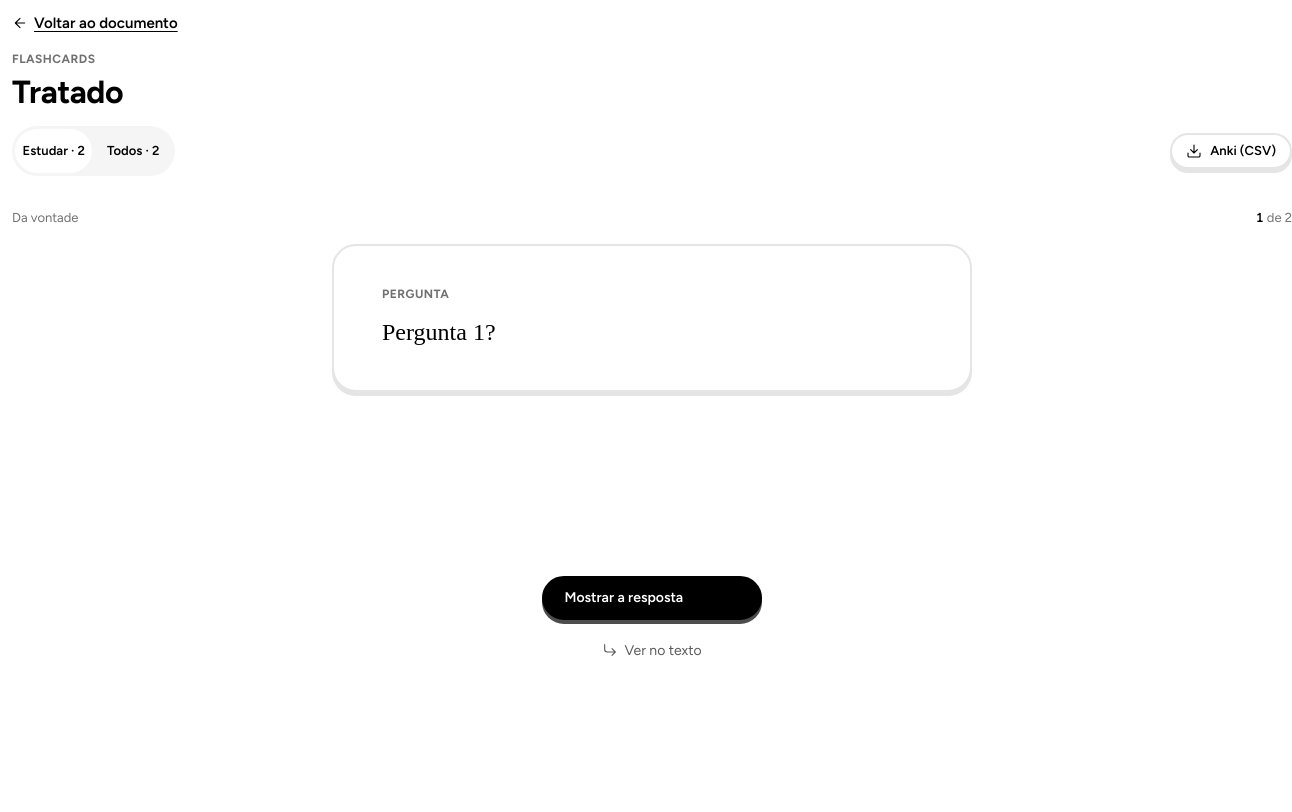
Test: estudar: vira com clique e Espaço, responde com 1–4, Errei volta para o fim, contador e fim da sessão
This screenshot has width=1292, height=812.
Expected: the text "Pergunta 1?" is shown, [382, 319, 496, 345]
Expected: the heading reads "Tratado", [12, 73, 123, 111]
# Antes de virar, as teclas de resposta não fazem nada.
Press 3
Click the button "Pergunta Pergunta 1? Resposta Resposta 1.": (652, 394) [332, 244, 972, 544]
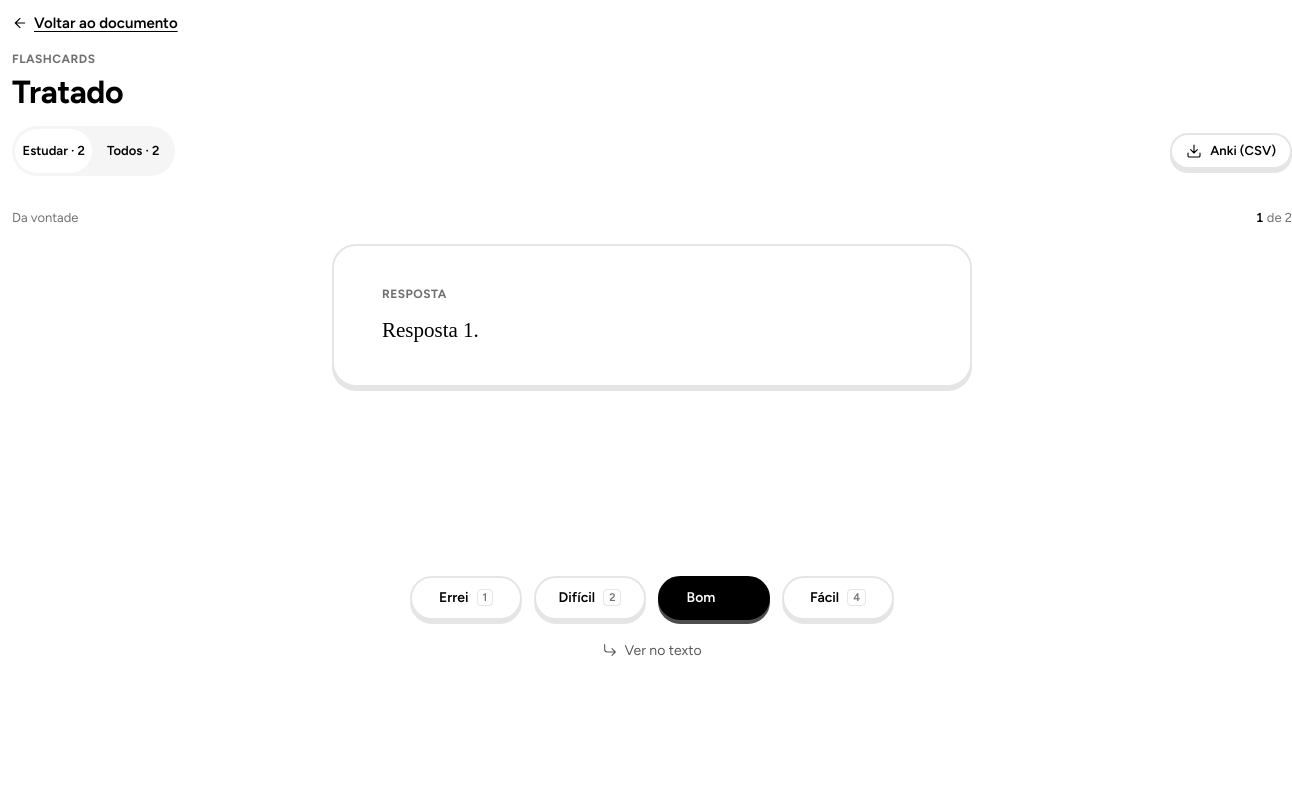
Expected: the element with class "cartao-que-vira" has attribute data-virado, [332, 244, 972, 544]
Expected: the element with class "cartao-que-vira" has attribute data-girou, [332, 244, 972, 544]
Click the button "Errei 1": (466, 598) [410, 576, 522, 620]
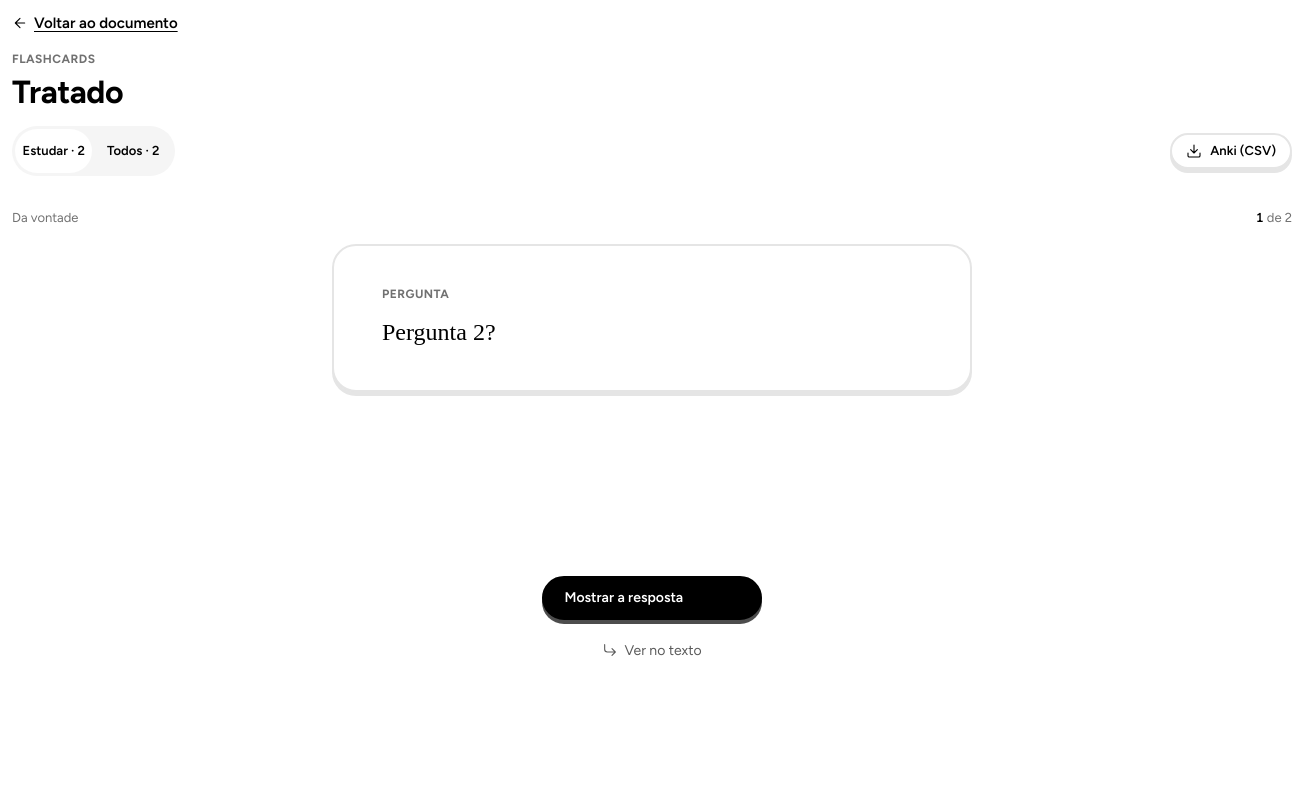
Expected: the text "Pergunta 2?" is shown, [382, 319, 496, 345]
Expected: the element with class "cartao-que-vira" does not have attribute data-girou, [332, 244, 972, 544]
Press Space
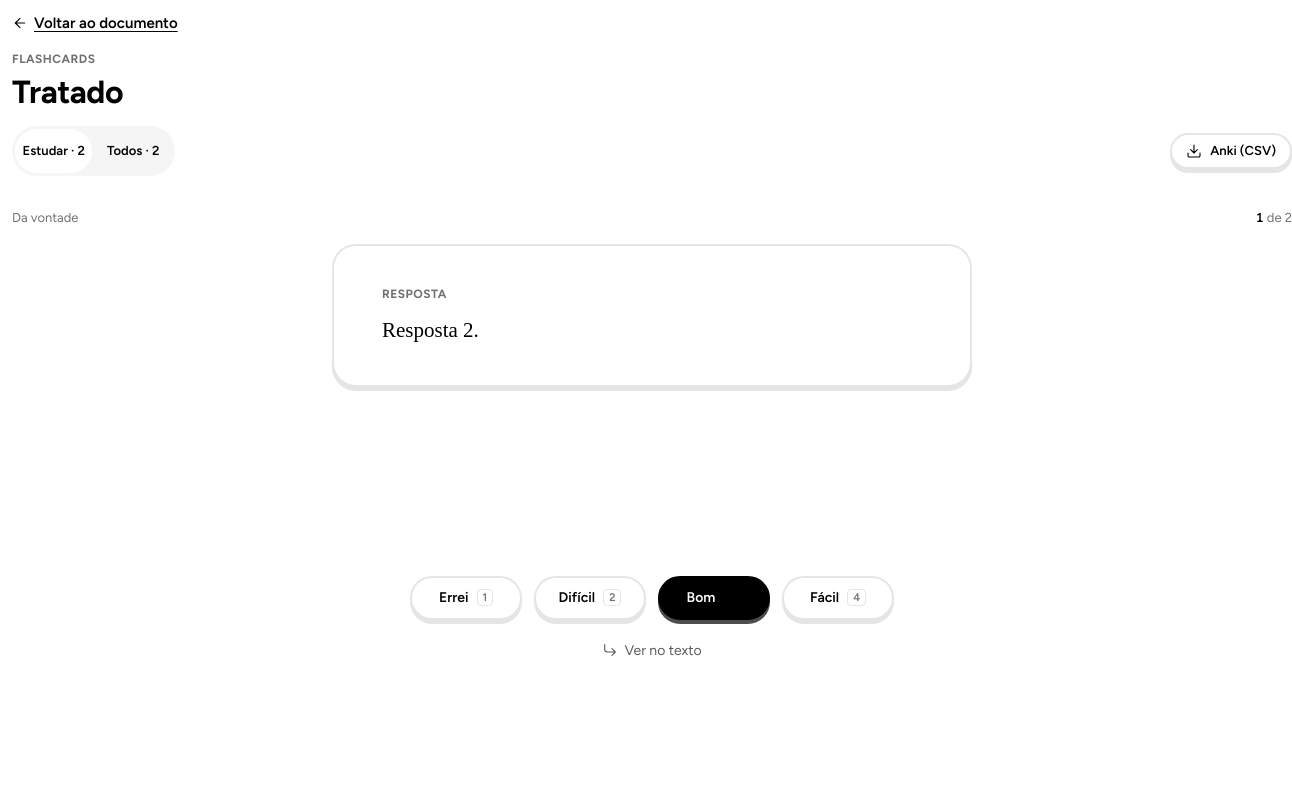
Press 3
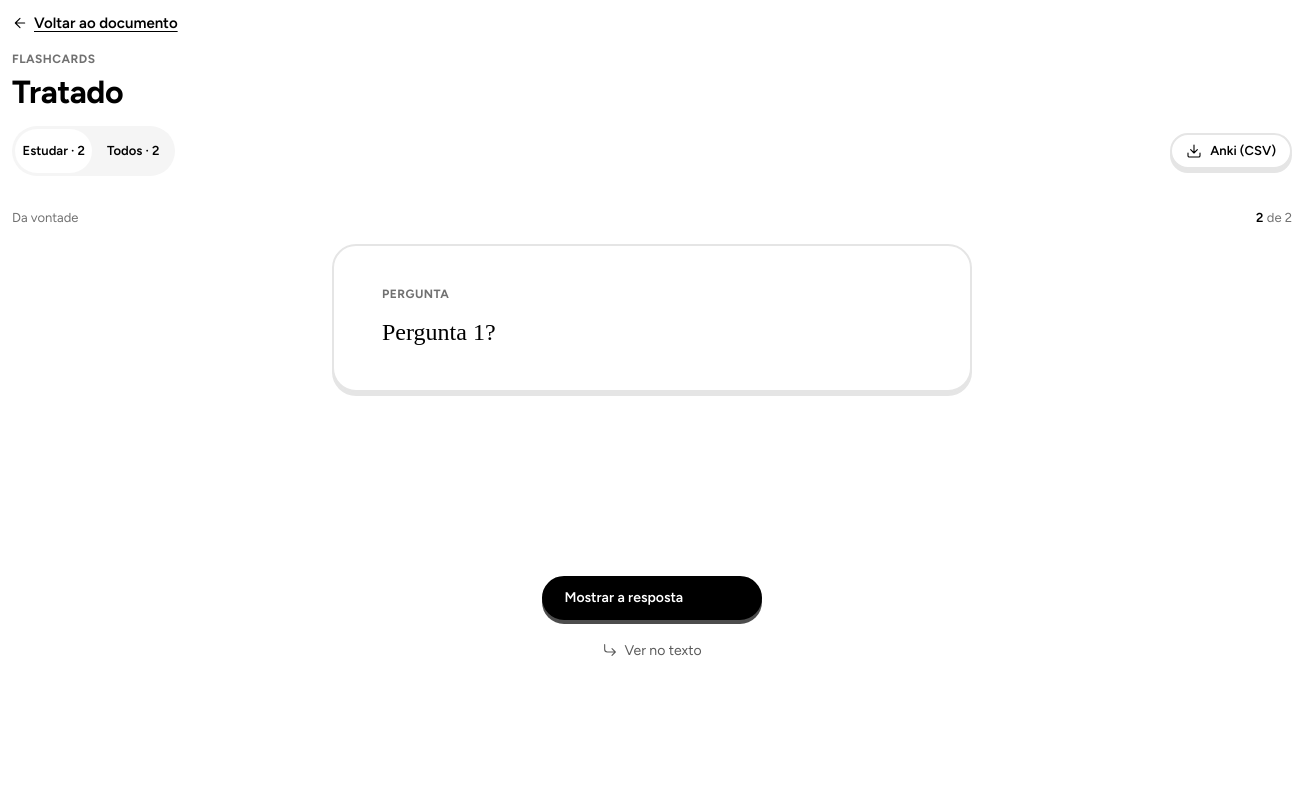
Expected: the text "Pergunta 1?" is shown, [382, 319, 496, 345]
Expected: the text "de 2" reads "2 de 2", [1255, 208, 1291, 228]
Press Enter
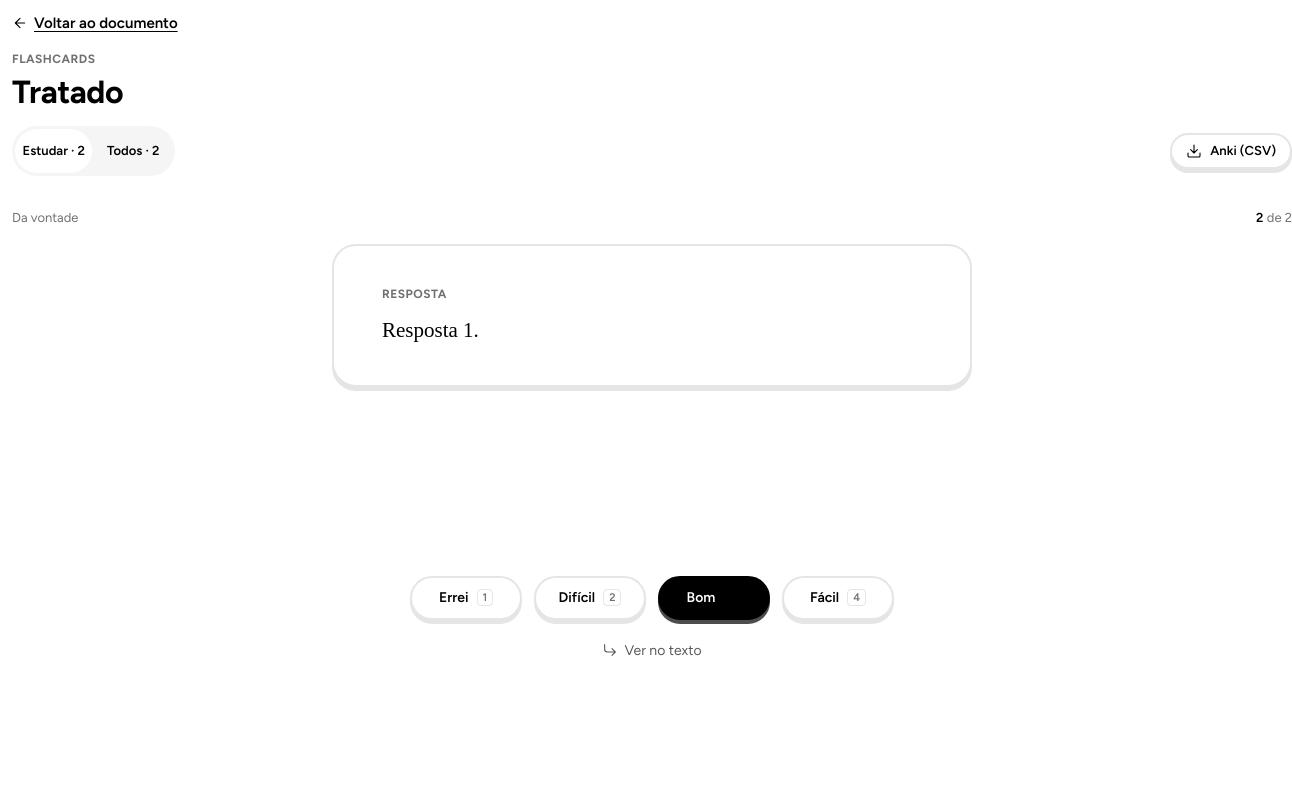
Press 4
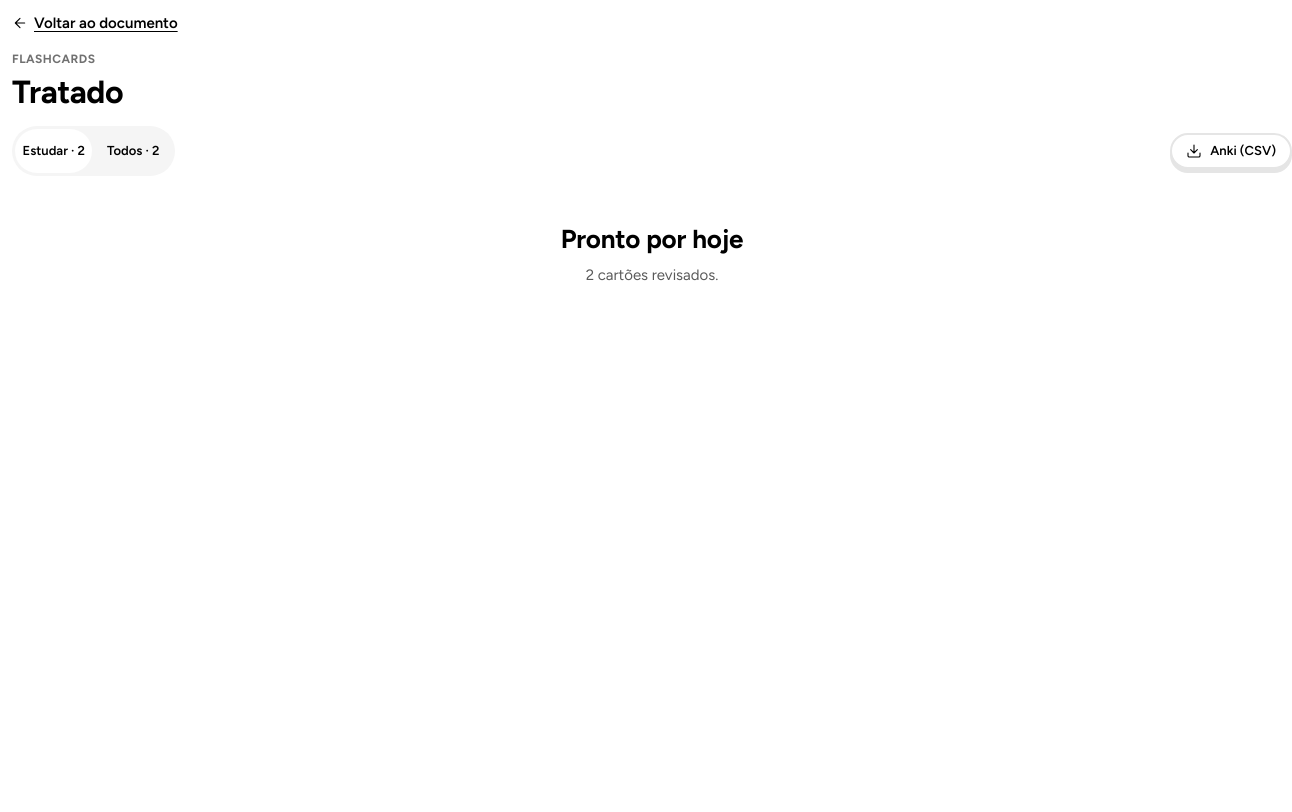
Expected: the heading "Pronto por hoje" is shown, [561, 224, 743, 256]
Expected: the text "2 cartões revisados." is shown, [586, 266, 718, 284]
